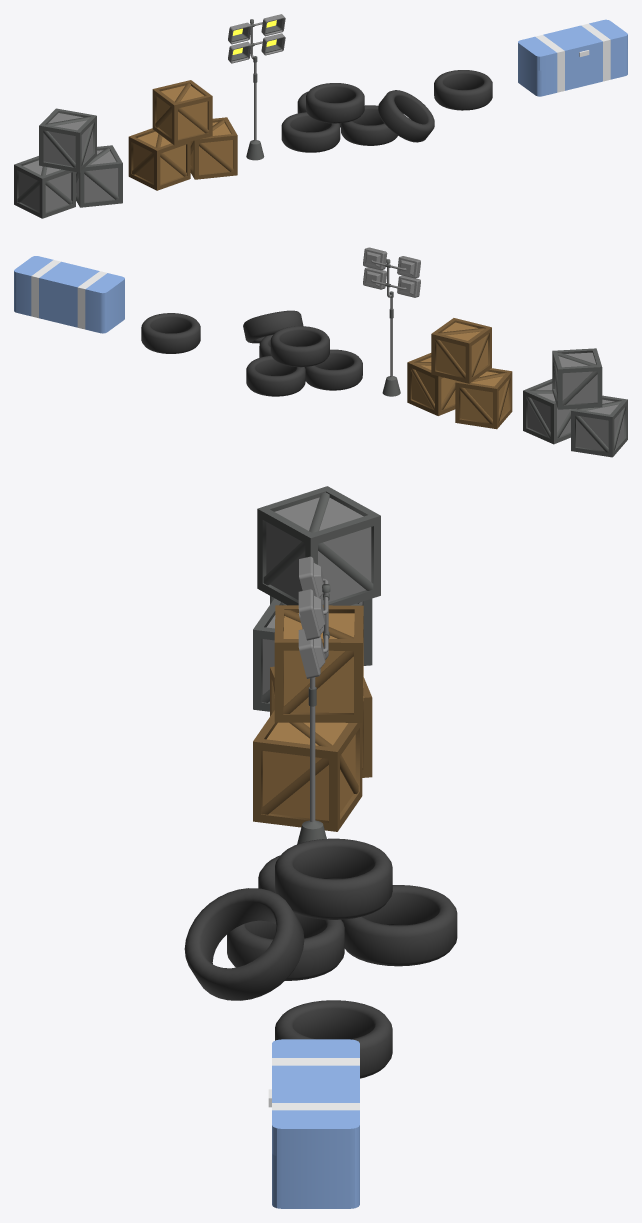
The model's file is street_environment.fbx.
3 views of the same model, one above another, from view 1: azimuth 30°, elevation 25°; view 2: azimuth 150°, elevation 25°; view 3: azimuth 270°, elevation 25° (orthographic). The views are drawn at different scales.
Visible parts, largest first — view 1: boxes_w, boxes_m, tires, lootbox_head, lootbox, lamp, tire_solo; view 2: boxes_w, boxes_m, tires, lootbox_head, lootbox, lamp, tire_solo; view 3: tires, boxes_w, boxes_m, lootbox_head, tire_solo, lamp, lootbox.
Boxes of the visible parts, x1=… form: boxes_w: x1=128, y1=80, x2=237, y2=190; boxes_m: x1=14, y1=108, x2=122, y2=218; tires: x1=281, y1=83, x2=434, y2=152; lootbox_head: x1=518, y1=19, x2=627, y2=70; lootbox: x1=518, y1=49, x2=627, y2=96; lamp: x1=228, y1=14, x2=285, y2=160; tire_solo: x1=434, y1=70, x2=492, y2=110; boxes_w: x1=407, y1=318, x2=512, y2=429; boxes_m: x1=523, y1=348, x2=627, y2=457; tires: x1=243, y1=310, x2=362, y2=396; lootbox_head: x1=14, y1=256, x2=124, y2=307; lootbox: x1=14, y1=285, x2=124, y2=333; lamp: x1=363, y1=247, x2=420, y2=396; tire_solo: x1=141, y1=313, x2=200, y2=353; tires: x1=184, y1=838, x2=457, y2=1000; boxes_w: x1=253, y1=605, x2=372, y2=831; boxes_m: x1=253, y1=486, x2=380, y2=711; lootbox_head: x1=268, y1=1039, x2=359, y2=1156; tire_solo: x1=275, y1=1000, x2=392, y2=1078; lamp: x1=297, y1=556, x2=330, y2=844; lootbox: x1=272, y1=1153, x2=359, y2=1208.
Bounding box in the file's own units: 934 × 207 × 185.
